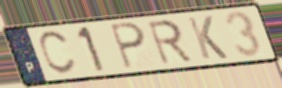1: (76, 25, 107, 75)
3: (223, 8, 264, 60)
C: (37, 29, 79, 77)
K: (185, 14, 231, 61)
P: (107, 21, 148, 72)
R: (144, 18, 195, 67)
